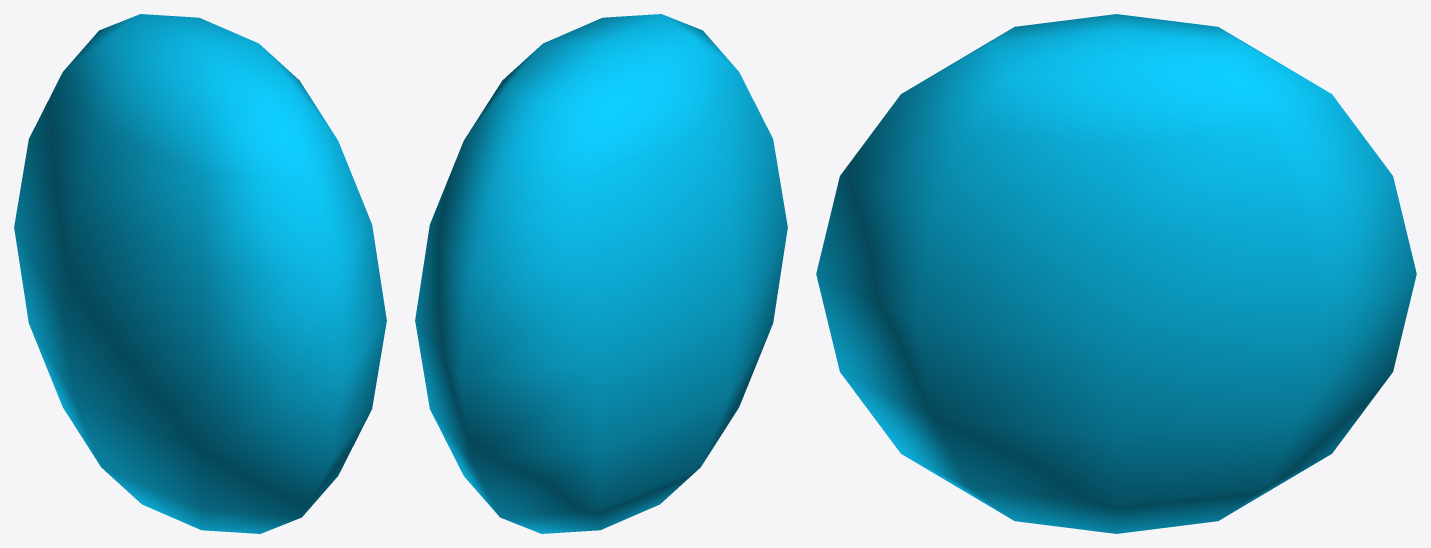
The model's file is Blue.fbx.
3 renders of one model, left to right at view 1: azimuth 30°, elevation 25°; view 2: azimuth 150°, elevation 25°; view 3: azimuth 270°, elevation 25°, orthographic. The views are drawn at different scales.
Visible parts, largest first — view 1: blue; view 2: blue; view 3: blue.
Part boxes in pixels (x1,y1,x2,y2): blue: (14, 14, 386, 533); blue: (415, 14, 787, 533); blue: (816, 14, 1416, 533).
Size of the model in its own units: 0.0508 by 0.0804 by 0.09.
